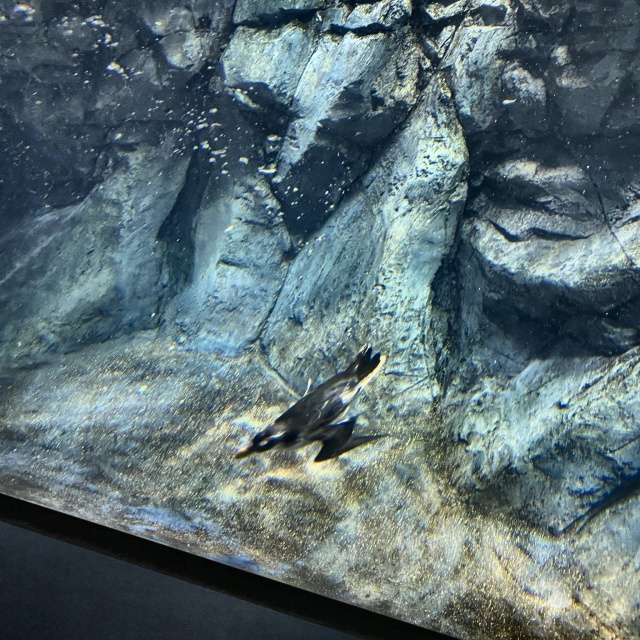puffin: (232, 342, 388, 464)
